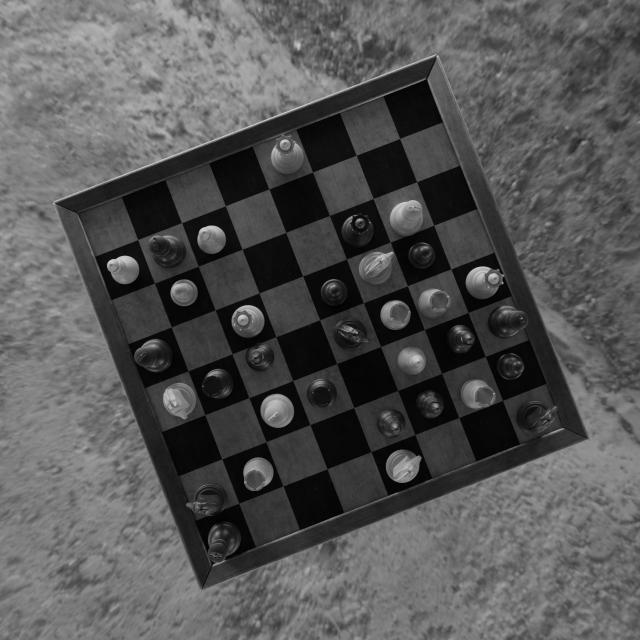chessboard: (78, 80, 564, 563)
